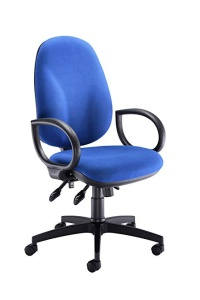chair: (25, 36, 166, 273)
